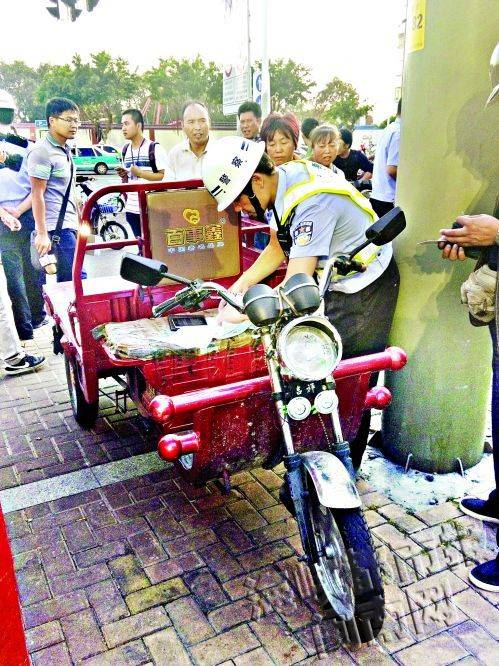empty: (43, 210, 399, 635)
